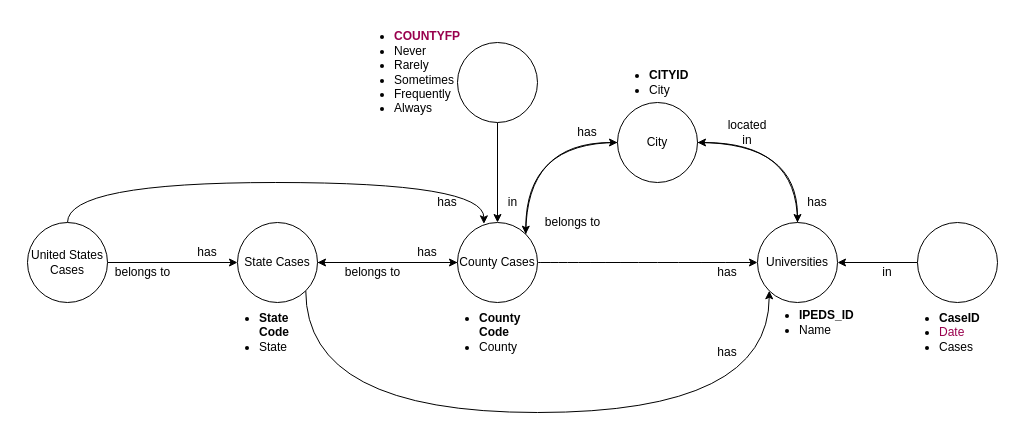
Some shapes in this 1015 by 430 pixel diagram are drawn without their labels. Each missing label, with the centre of its shape:
Mask Use: the point at 497,82
University Cases: the point at 957,262
